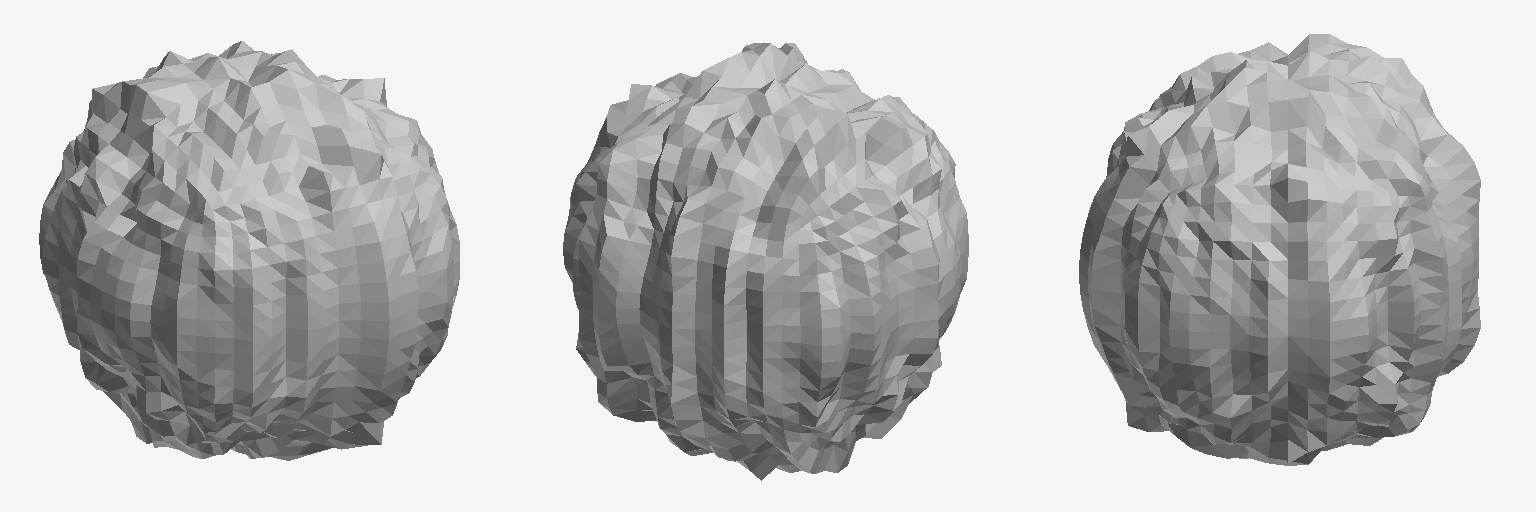
Rendered from asteroid113.obj.
The picture shows the model from 3 angles: view 1: azimuth 30°, elevation 25°; view 2: azimuth 150°, elevation 25°; view 3: azimuth 270°, elevation 25°; orthographic projection.
Visible parts, largest first — view 1: Cube_Cube.002; view 2: Cube_Cube.002; view 3: Cube_Cube.002.
Part boxes in pixels (bbox=[...]): Cube_Cube.002: bbox=[39, 41, 459, 460]; Cube_Cube.002: bbox=[563, 43, 968, 480]; Cube_Cube.002: bbox=[1079, 34, 1480, 465].
Size of the model in its own units: 1.76 by 1.89 by 1.76.